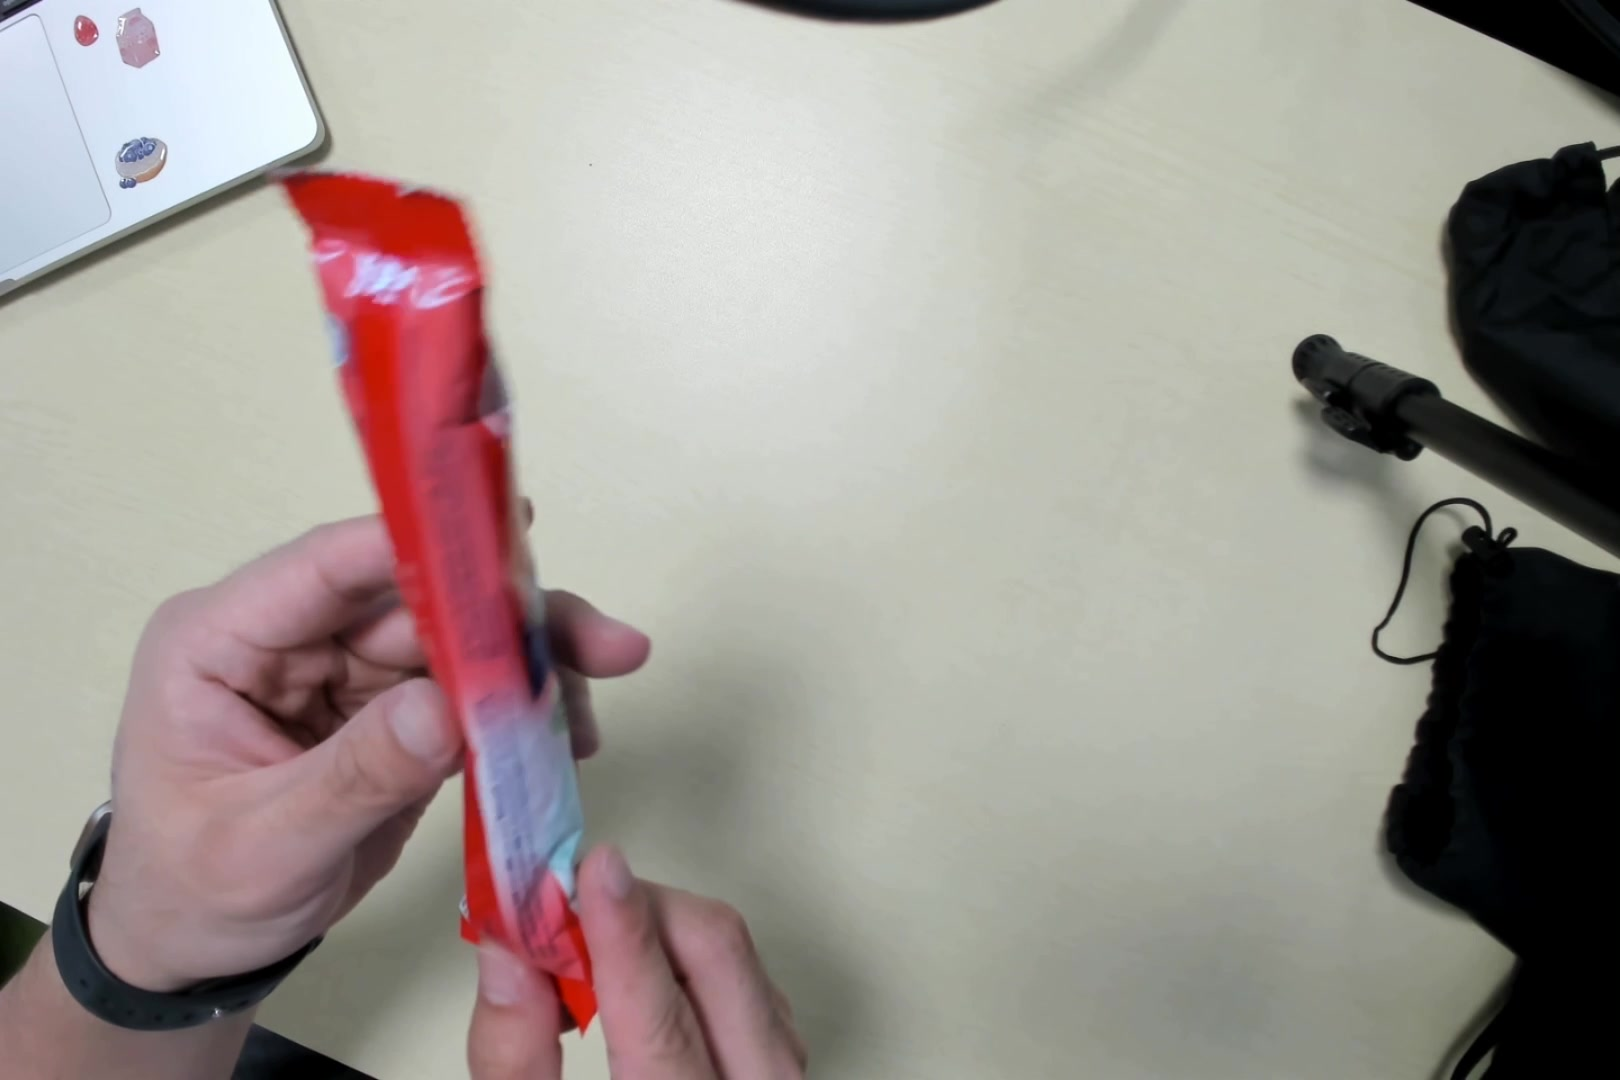MilkPowder_0-99g_Halal_NonHealthy: (274, 165, 601, 1025)
